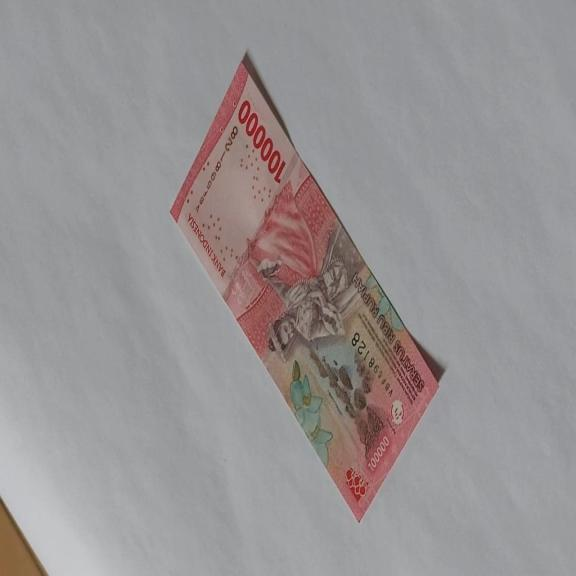Kertas: (170, 50, 442, 522), (238, 97, 286, 184)
